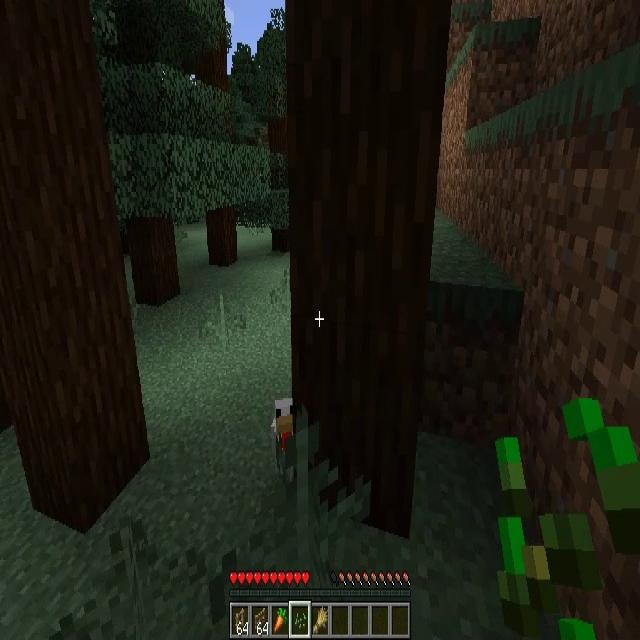duck: (272, 399, 293, 478)
